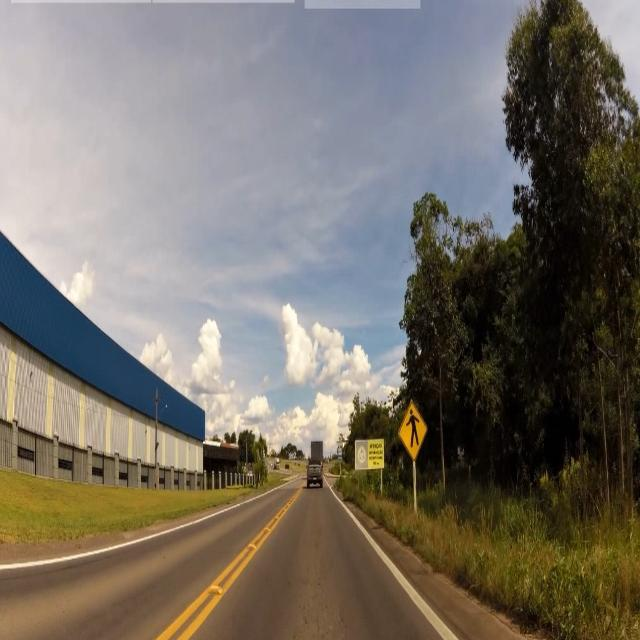A-32a: (395, 399, 432, 461)
